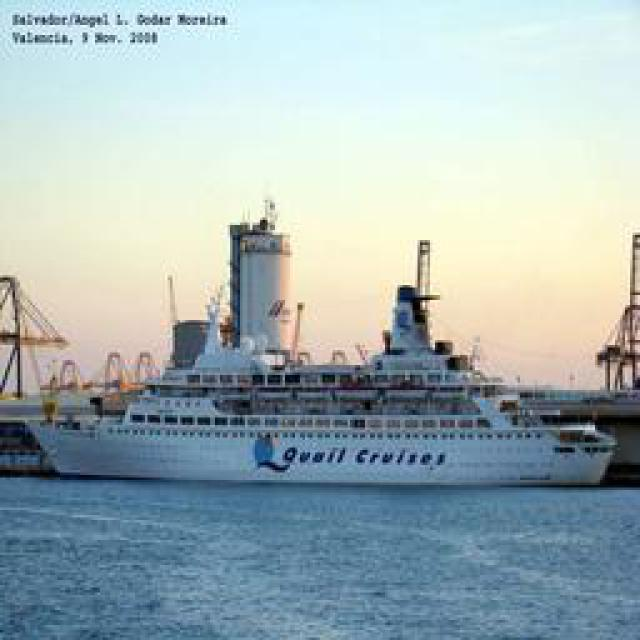Ship: (22, 223, 605, 491)
